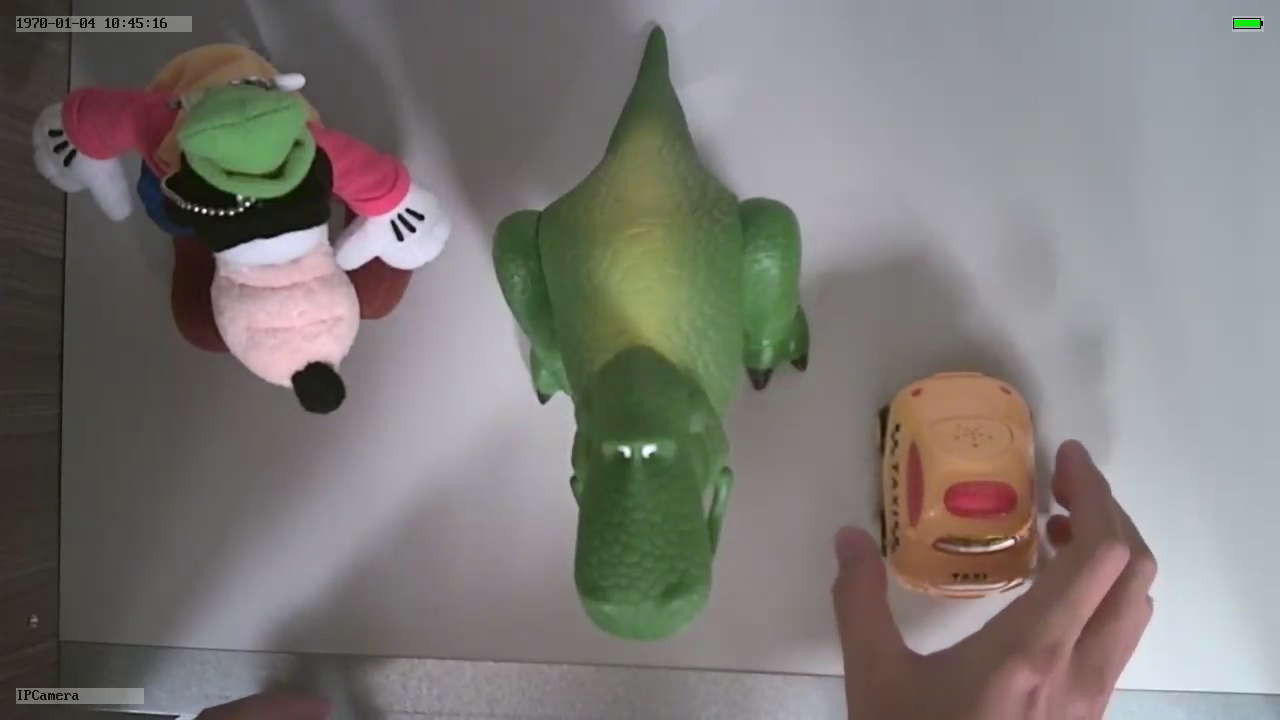goofy: (31, 38, 456, 413)
